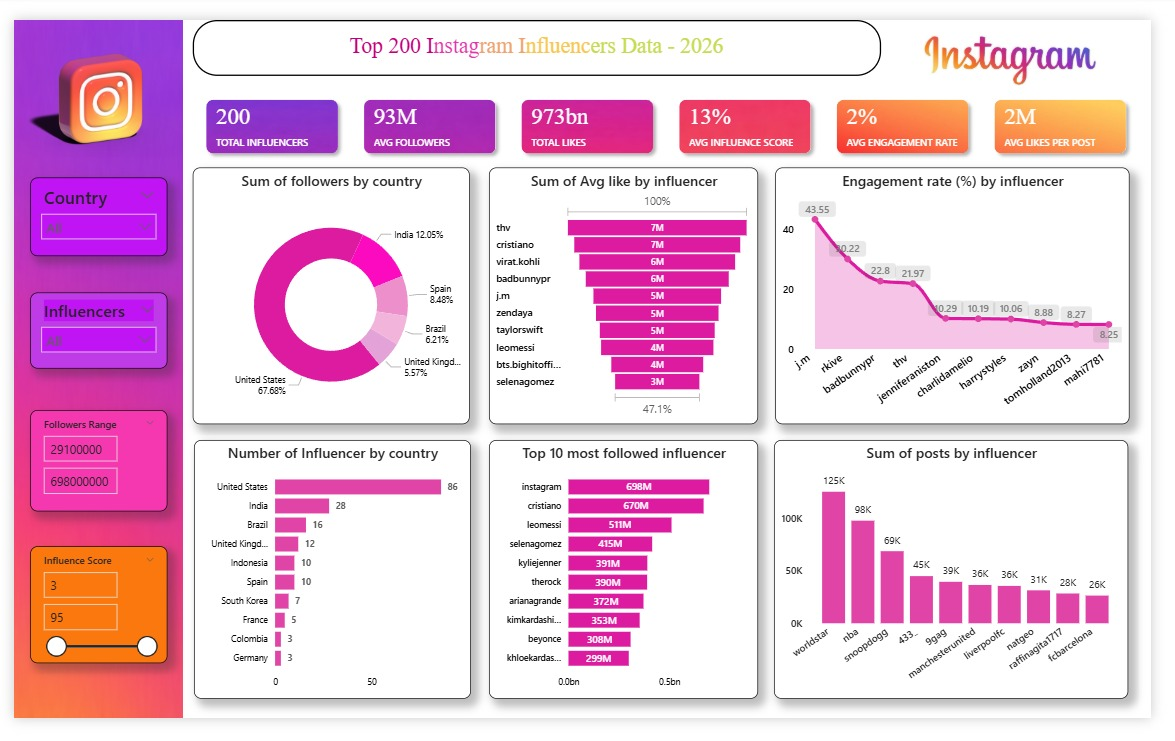

What the dashboard file says about the page in this screenshot:
{"tool":"powerbi","page":{"name":"Page 1","canvas":[1400,860],"ordinal":0},"visuals":[{"type":"image","box":[0,0,207.8,859.4],"z":0},{"type":"textbox","box":[220.3,0,846.9,68.8],"z":3000},{"type":"cardVisual","fields":{"Data":["CountNonNull(top_insta_infl_cleaned_data.rank)","top_insta_infl_cleaned_data.Avg_followers","top_insta_infl_cleaned_data.Total likes","top_insta_infl_cleaned_data.Avg_infl_score","top_insta_infl_cleaned_data.Avg_eng","top_insta_infl_cleaned_data.New_post_avg_likes"]},"box":[207.1,68.6,1192.9,124.3],"z":5000},{"type":"clusteredBarChart","title":"Number of Influencer by country","fields":{"Category":["top_insta_infl_cleaned_data.country"],"Y":["CountNonNull(top_insta_infl_cleaned_data.rank)"]},"box":[221.9,517.2,340.6,318.8],"z":6000},{"type":"funnel","title":"Sum of Avg like by influencer","fields":{"Y":["Sum(top_insta_infl_cleaned_data.new_post_avg_like)"],"Category":["top_insta_infl_cleaned_data.username"]},"box":[584.4,181.2,331.2,315.6],"z":7000},{"type":"clusteredBarChart","title":"Top 10 most followed influencer","fields":{"Category":["top_insta_infl_cleaned_data.username"],"Y":["Sum(top_insta_infl_cleaned_data.followers)"]},"box":[584.4,517.2,331.2,318.8],"z":8000},{"type":"lineChart","title":"Engagement rate (%) by influencer","fields":{"Category":["top_insta_infl_cleaned_data.username"],"Y":["Sum(top_insta_infl_cleaned_data.engagement_rate)"]},"box":[937.5,181.2,435.9,315.6],"z":9000},{"type":"columnChart","title":"Sum of posts by influencer","fields":{"Category":["top_insta_infl_cleaned_data.username"],"Y":["Sum(top_insta_infl_cleaned_data.posts)"]},"box":[935.9,517.2,435.9,318.8],"z":10000},{"type":"donutChart","fields":{"Category":["top_insta_infl_cleaned_data.country"],"Y":["Sum(top_insta_infl_cleaned_data.followers)"]},"box":[220.3,181.2,340.6,315.6],"z":11000},{"type":"slicer","fields":{"Values":["top_insta_infl_cleaned_data.country"]},"box":[20.3,193.8,168.8,96.9],"z":11001},{"type":"image","box":[0,0,207.8,193.8],"z":11002},{"type":"slicer","fields":{"Values":["top_insta_infl_cleaned_data.influence_score"]},"box":[20.3,648.4,168.8,143.8],"z":11003},{"type":"slicer","fields":{"Values":["top_insta_infl_cleaned_data.username"]},"box":[20.3,335.9,168.8,93.8],"z":11004},{"type":"slicer","fields":{"Values":["top_insta_infl_cleaned_data.followers"]},"box":[20.3,479.7,168.8,125],"z":11005},{"type":"image","box":[1046.9,0,353.1,84.4],"z":11006}]}

Visuals, with their boxes in screenshot pixels (x1, y1, x2, y2), scaled from the page's 1400x860 canvas onto the 1175x741 screenshot:
image: <box>0,0,174,740</box>
textbox: <box>185,0,896,59</box>
cardVisual - CountNonNull(top_insta_infl_cleaned_data.rank) x top_insta_infl_cleaned_data.Avg_followers: <box>174,59,1174,166</box>
"Number of Influencer by country" clusteredBarChart: <box>186,446,472,720</box>
"Sum of Avg like by influencer" funnel: <box>490,156,768,428</box>
"Top 10 most followed influencer" clusteredBarChart: <box>490,446,768,720</box>
"Engagement rate (%) by influencer" lineChart: <box>787,156,1153,428</box>
"Sum of posts by influencer" columnChart: <box>785,446,1151,720</box>
donutChart - top_insta_infl_cleaned_data.country x Sum(top_insta_infl_cleaned_data.followers): <box>185,156,471,428</box>
slicer - top_insta_infl_cleaned_data.country: <box>17,167,159,250</box>
image: <box>0,0,174,167</box>
slicer - top_insta_infl_cleaned_data.influence_score: <box>17,559,159,683</box>
slicer - top_insta_infl_cleaned_data.username: <box>17,289,159,370</box>
slicer - top_insta_infl_cleaned_data.followers: <box>17,413,159,521</box>
image: <box>879,0,1174,73</box>
